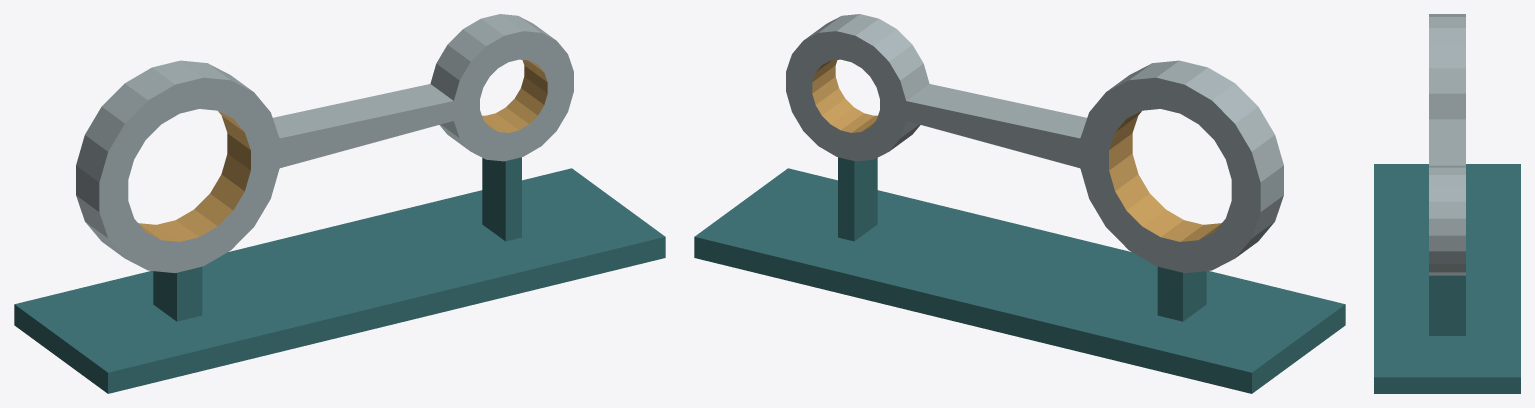
3 views of the same model, side by side, from view 1: azimuth 30°, elevation 25°; view 2: azimuth 150°, elevation 25°; view 3: azimuth 270°, elevation 25° (orthographic). The views are drawn at different scales.
Visible parts, largest first — view 1: CompleteGroundDisplayBase, OneContinuousDoubleEyeConnectingRod, SmallEndFullPedestal, LargeEndFullPedestal; view 2: CompleteGroundDisplayBase, OneContinuousDoubleEyeConnectingRod, SmallEndFullPedestal, LargeEndFullPedestal; view 3: CompleteGroundDisplayBase, OneContinuousDoubleEyeConnectingRod, SmallEndFullPedestal.
Part boxes in pixels (bbox=[...]): CompleteGroundDisplayBase: bbox=[14, 168, 665, 393]; OneContinuousDoubleEyeConnectingRod: bbox=[76, 14, 573, 272]; SmallEndFullPedestal: bbox=[482, 157, 521, 241]; LargeEndFullPedestal: bbox=[153, 266, 202, 321]; CompleteGroundDisplayBase: bbox=[694, 168, 1345, 393]; OneContinuousDoubleEyeConnectingRod: bbox=[786, 14, 1283, 272]; SmallEndFullPedestal: bbox=[838, 157, 877, 241]; LargeEndFullPedestal: bbox=[1157, 266, 1206, 321]; CompleteGroundDisplayBase: bbox=[1374, 164, 1520, 393]; OneContinuousDoubleEyeConnectingRod: bbox=[1429, 14, 1465, 275]; SmallEndFullPedestal: bbox=[1429, 275, 1465, 335].
Size of the model in its own units: 2.2 by 0.9756 by 0.64.
